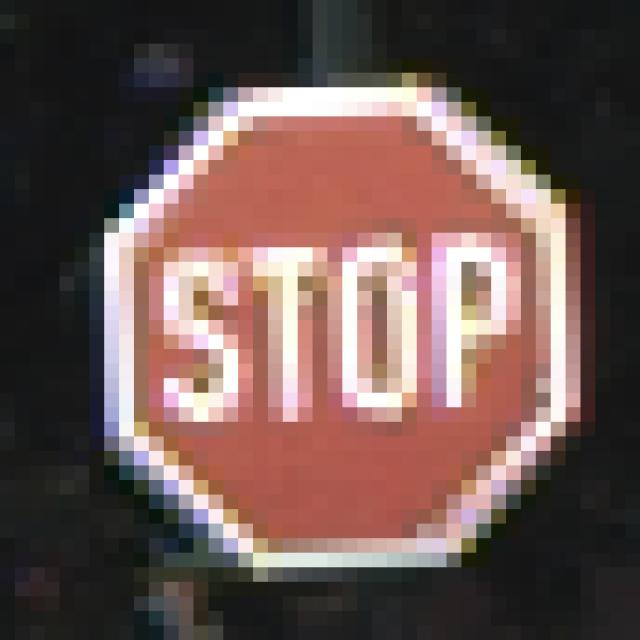STOP: (76, 74, 567, 554)
